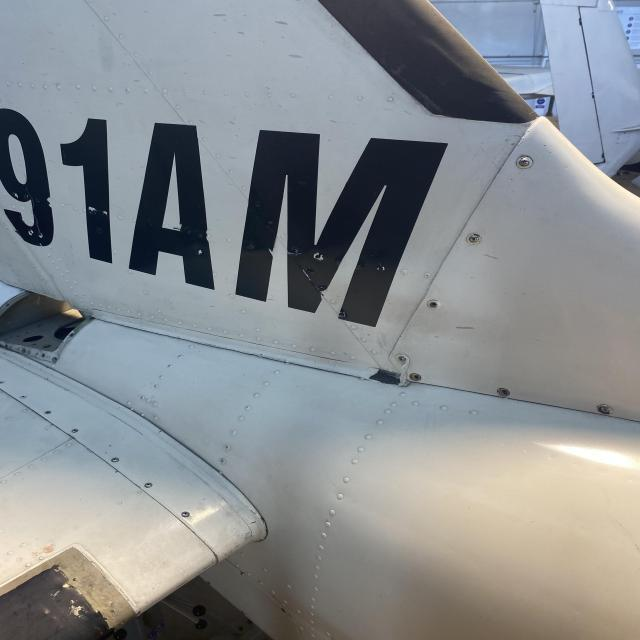Missing_Fastener: (422, 298, 450, 314), (492, 386, 516, 398), (408, 372, 424, 382)
